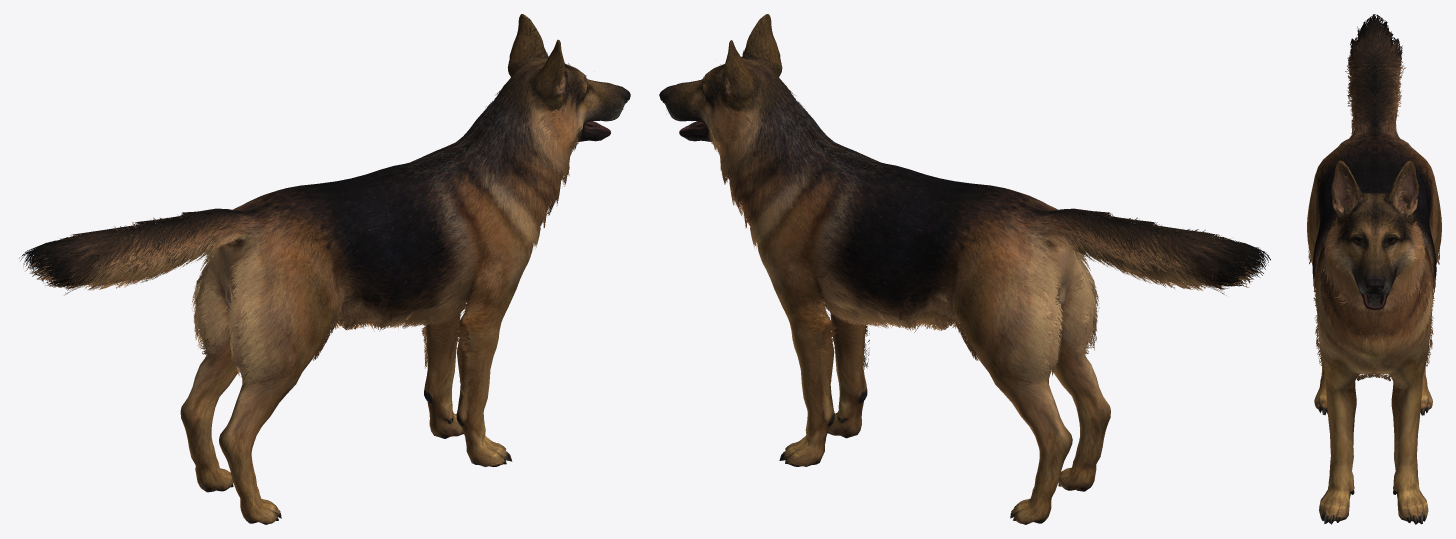
File: dog.glb
The picture shows the model from 3 angles, left to right: view 1: azimuth 30°, elevation 25°; view 2: azimuth 150°, elevation 25°; view 3: azimuth 270°, elevation 25°; orthographic projection. The views are drawn at different scales.
Visible parts, largest first — view 1: dog; view 2: dog; view 3: dog.
Part boxes in pixels (<box>): dog: <box>19,14,630,524</box>; dog: <box>659,14,1270,524</box>; dog: <box>1307,14,1441,524</box>.
Size of the model in its own units: 2.34 by 1.47 by 0.4587.
Materials: 3 (3 with a texture image).
